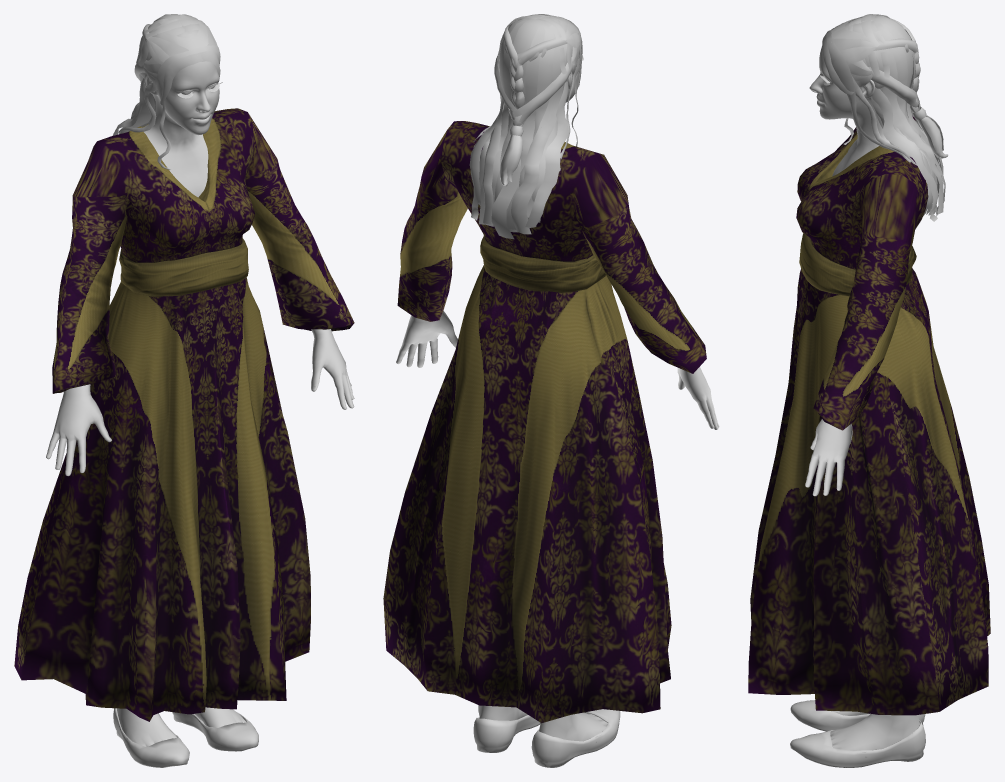
The model's file is RoyalWoman_01.fbx.
3 renders of one model, left to right at view 1: azimuth 30°, elevation 25°; view 2: azimuth 150°, elevation 25°; view 3: azimuth 270°, elevation 25°, orthographic.
Parts seen in each view (by area): view 1: RoyalWoman_01:Tops, RoyalWoman_01:Body, RoyalWoman_01:Hair, RoyalWoman_01:Shoes; view 2: RoyalWoman_01:Tops, RoyalWoman_01:Hair, RoyalWoman_01:Body, RoyalWoman_01:Shoes; view 3: RoyalWoman_01:Tops, RoyalWoman_01:Hair, RoyalWoman_01:Body, RoyalWoman_01:Shoes.
Boxes of the visible parts, bbox=[...] form: RoyalWoman_01:Tops: bbox=[14, 108, 354, 721]; RoyalWoman_01:Body: bbox=[46, 61, 354, 746]; RoyalWoman_01:Hair: bbox=[112, 14, 220, 169]; RoyalWoman_01:Shoes: bbox=[113, 708, 258, 767]; RoyalWoman_01:Tops: bbox=[383, 121, 706, 723]; RoyalWoman_01:Hair: bbox=[469, 14, 582, 239]; RoyalWoman_01:Body: bbox=[396, 57, 719, 742]; RoyalWoman_01:Shoes: bbox=[473, 709, 620, 767]; RoyalWoman_01:Tops: bbox=[748, 115, 990, 715]; RoyalWoman_01:Hair: bbox=[822, 14, 948, 221]; RoyalWoman_01:Body: bbox=[805, 46, 919, 757]; RoyalWoman_01:Shoes: bbox=[790, 700, 925, 767].
Size of the model in its own units: 80.53 by 178 by 54.17.
